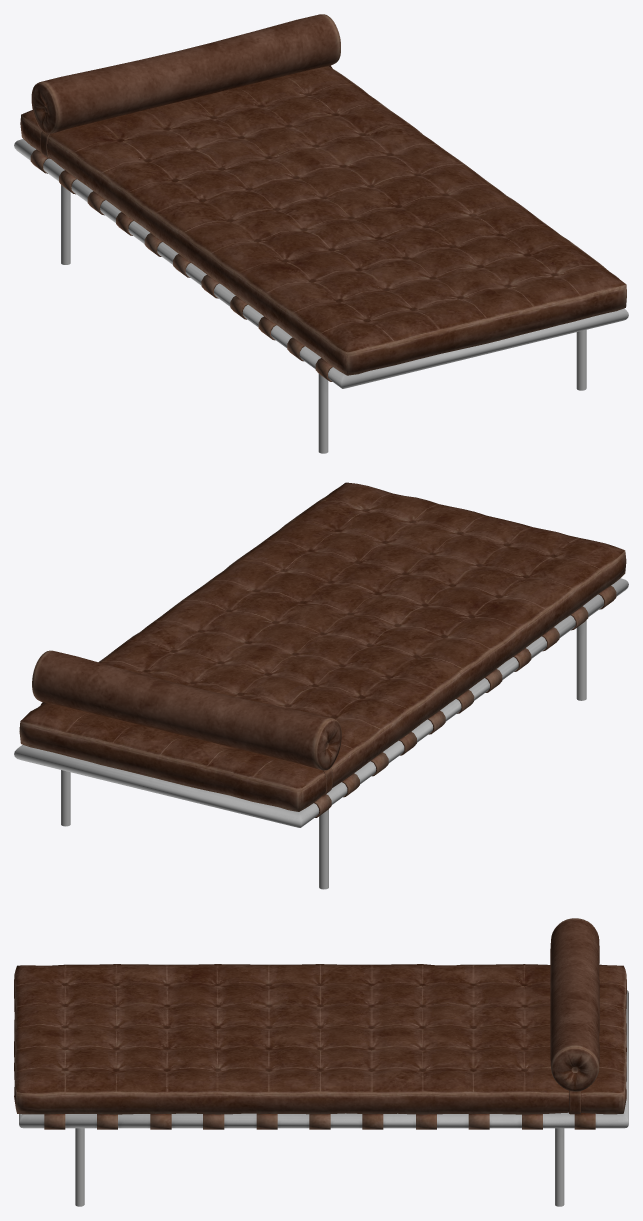
File: Barcelona Daybed.fbx
3 views of the same model, one above another, from view 1: azimuth 30°, elevation 25°; view 2: azimuth 150°, elevation 25°; view 3: azimuth 270°, elevation 25° (orthographic). The views are drawn at different scales.
Parts seen in each view (by area): view 1: Barcelona_Daybed; view 2: Barcelona_Daybed; view 3: Barcelona_Daybed.
Part boxes in pixels (<box>): Barcelona_Daybed: <box>14,14,628,453</box>; Barcelona_Daybed: <box>14,482,628,889</box>; Barcelona_Daybed: <box>14,918,628,1206</box>.
Size of the model in its own units: 100 by 57.96 by 197.
Materials: 1 (1 with a texture image).
